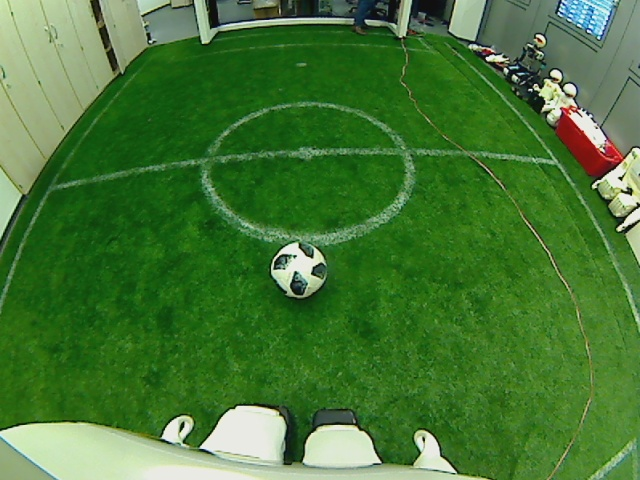ball: (268, 238, 329, 300)
